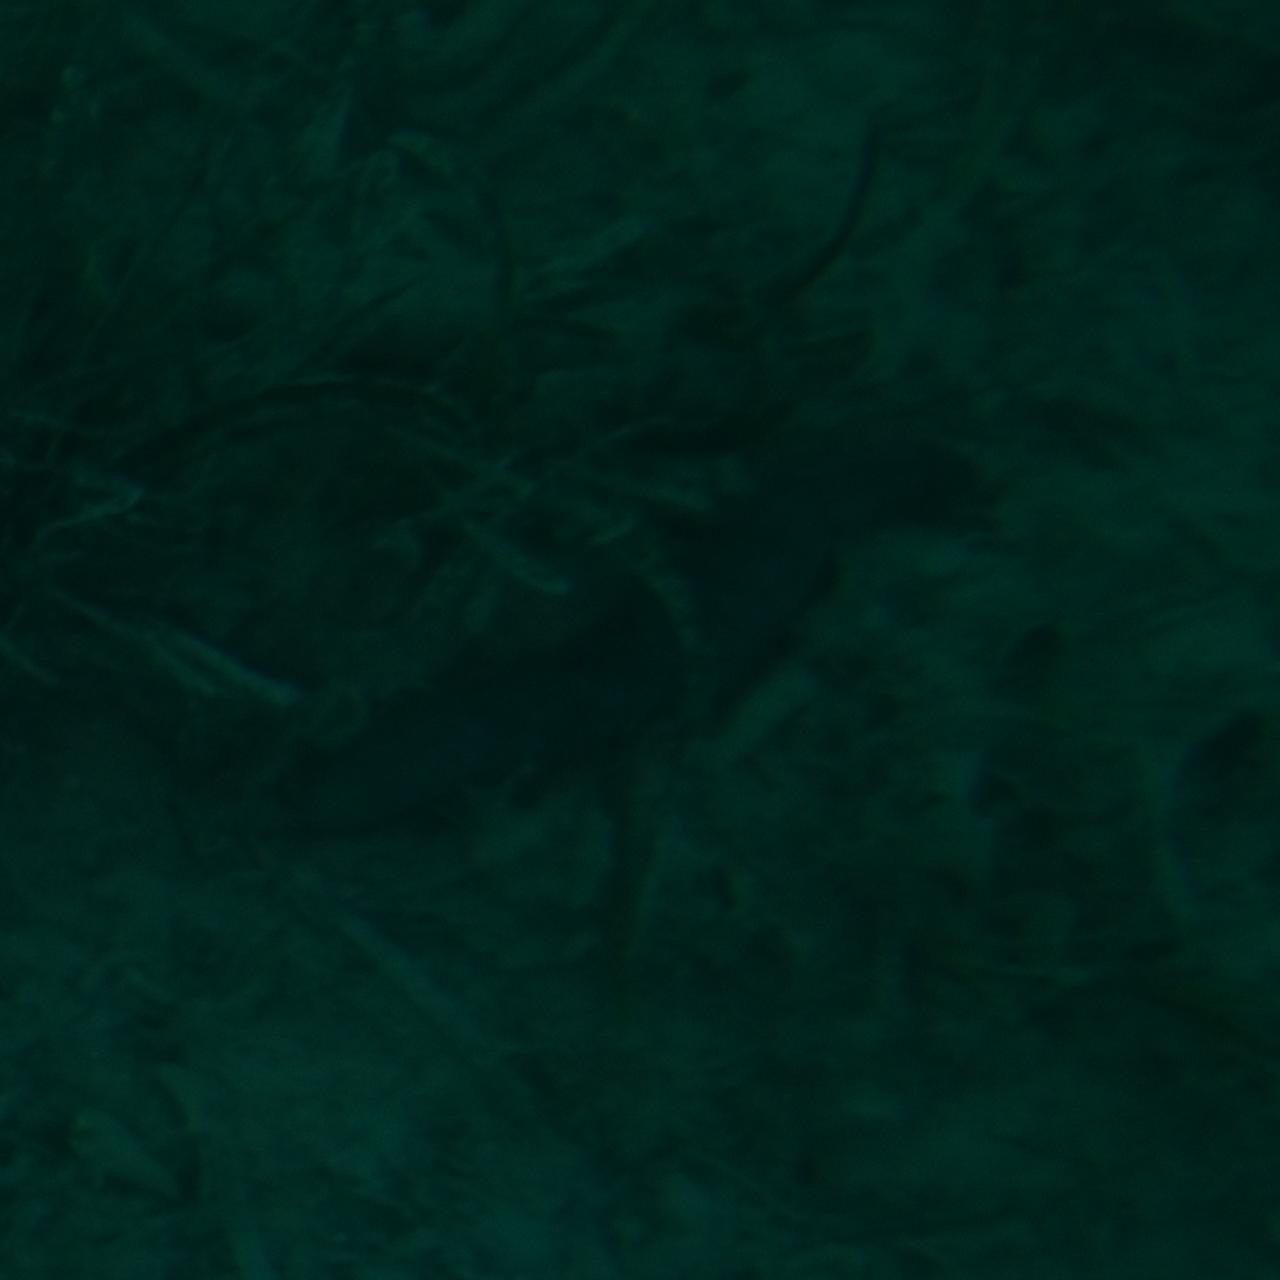Holothuria tubulosa: (267, 420, 1013, 860)
